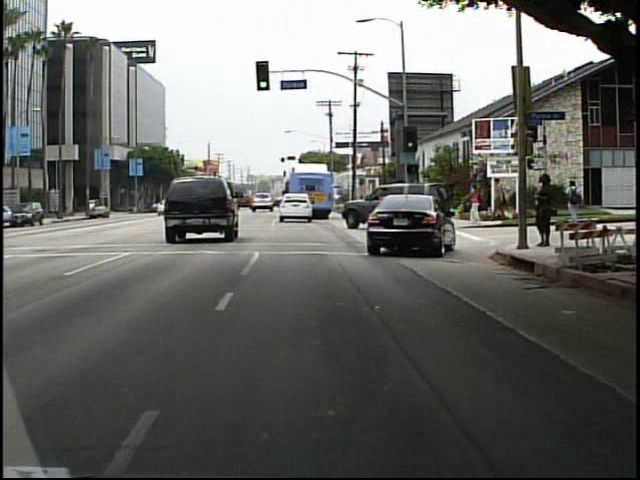person: (530, 170, 555, 253), (464, 179, 489, 228), (562, 177, 585, 222), (490, 177, 508, 223)
